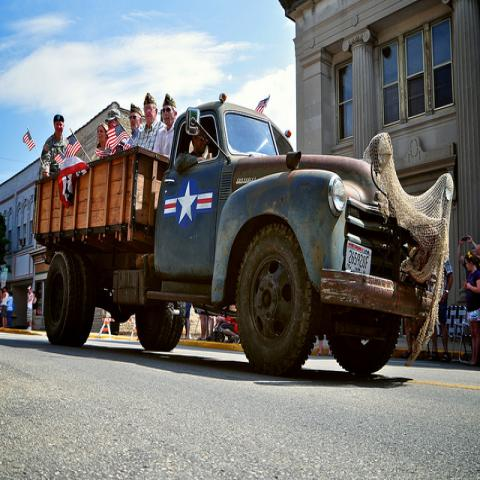truck: (33, 95, 456, 374)
